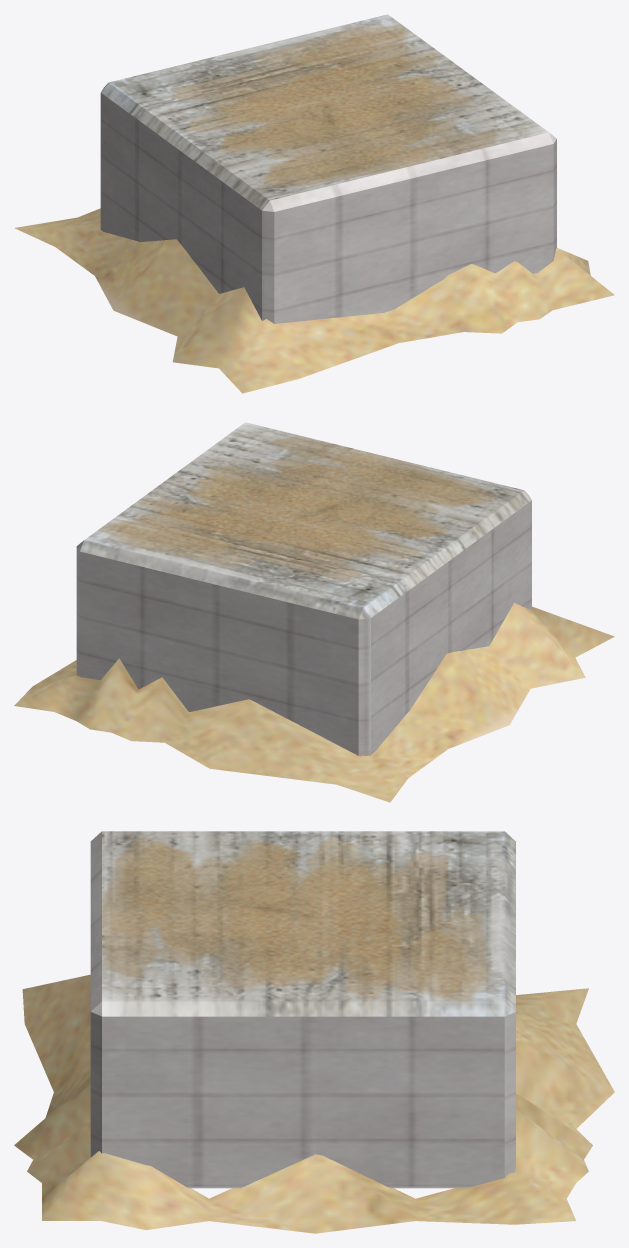
Rendered from TDHus1.fbx.
3 views of the same model, one above another, from view 1: azimuth 30°, elevation 25°; view 2: azimuth 150°, elevation 25°; view 3: azimuth 270°, elevation 25° (orthographic). The views are drawn at different scales.
Visible parts, largest first — view 1: TDHus; view 2: TDHus; view 3: TDHus.
Boxes of the visible parts, box(x1,y1,x2,y2) form: TDHus: box(14, 14, 614, 393); TDHus: box(14, 422, 614, 802); TDHus: box(14, 831, 614, 1233).
Bounding box in the file's own units: 33.3 × 11.73 × 32.93.
